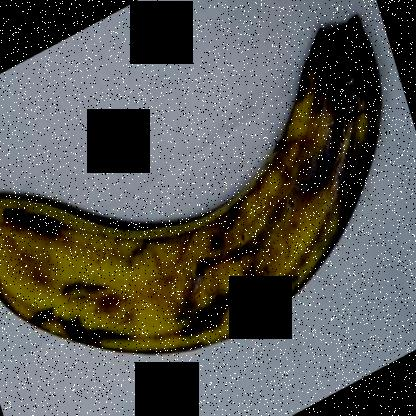overripe: (0, 1, 394, 383)
rotten: (278, 10, 382, 189)
